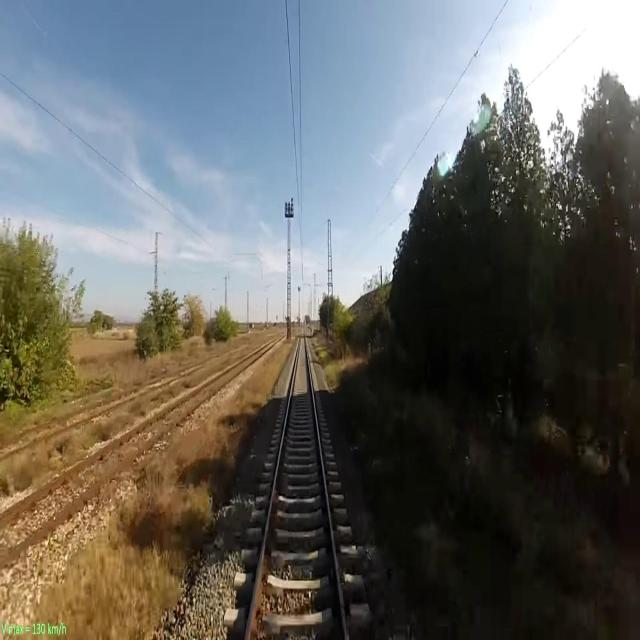rail-track: (0, 361, 245, 551), (249, 334, 343, 639), (0, 393, 133, 454)
